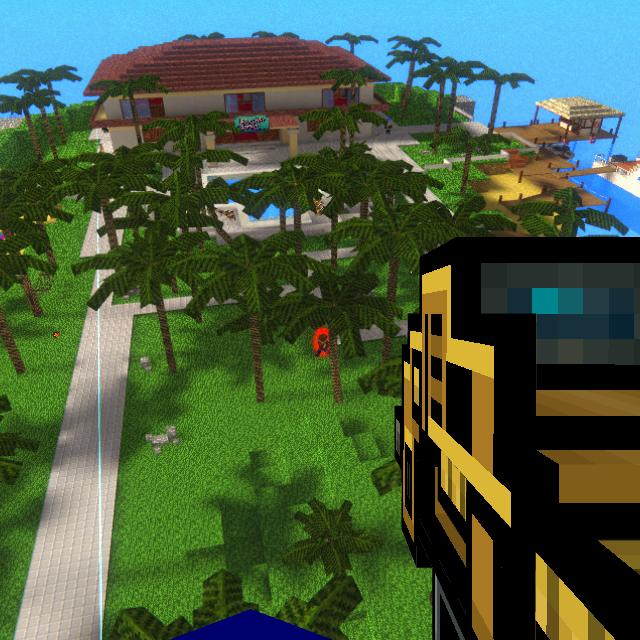Enemy: (315, 333, 329, 357)
